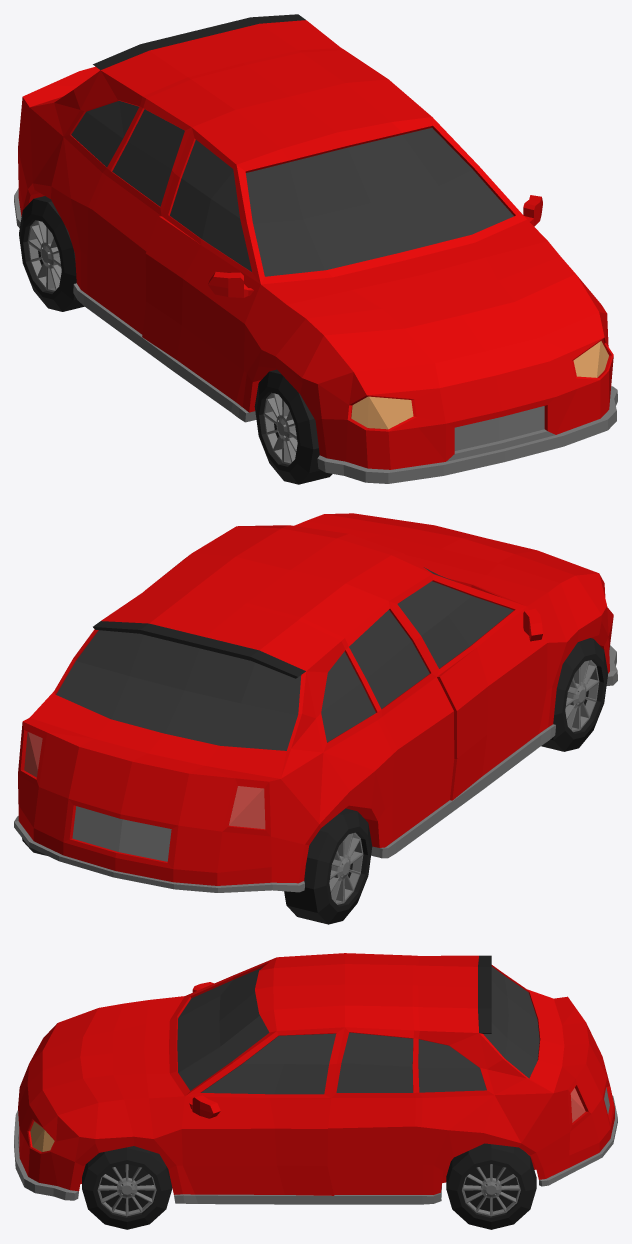
File: car_full.glb
3 views of the same model, one above another, from view 1: azimuth 30°, elevation 25°; view 2: azimuth 150°, elevation 25°; view 3: azimuth 270°, elevation 25° (orthographic). The views are drawn at different scales.
Visible parts, largest first — view 1: NormalCar2, NormalCar2_FrontRightWheel, NormalCar2_BackWheels; view 2: NormalCar2, NormalCar2_BackWheels, NormalCar2_FrontRightWheel; view 3: NormalCar2, NormalCar2_BackWheels, NormalCar2_FrontLeftWheel.
Boxes of the visible parts, x1,y1,x2,y2 form: NormalCar2: [14, 14, 617, 483]; NormalCar2_FrontRightWheel: [254, 369, 332, 484]; NormalCar2_BackWheels: [19, 196, 84, 311]; NormalCar2: [14, 513, 617, 892]; NormalCar2_BackWheels: [22, 808, 372, 924]; NormalCar2_FrontRightWheel: [541, 638, 607, 751]; NormalCar2: [14, 953, 617, 1204]; NormalCar2_BackWheels: [446, 1143, 536, 1229]; NormalCar2_FrontLeftWheel: [82, 1146, 172, 1229].
Bounding box in the file's own units: 1.64 × 1.15 × 3.31.
